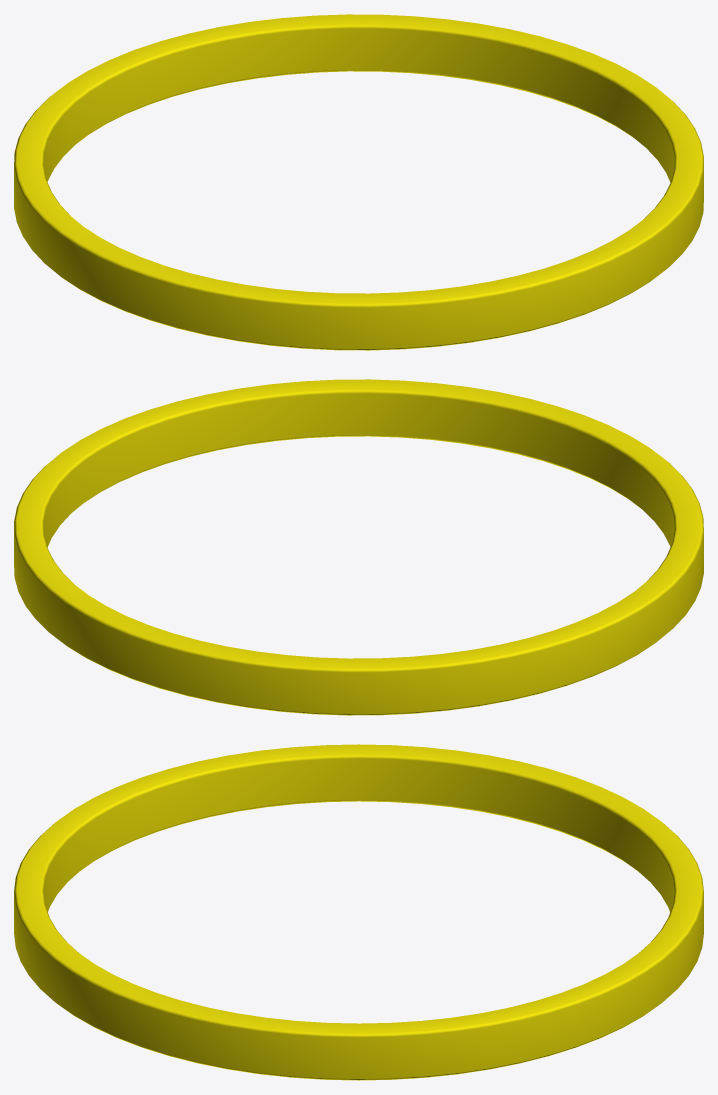
3 renders of one model, top to bottom at view 1: azimuth 30°, elevation 25°; view 2: azimuth 150°, elevation 25°; view 3: azimuth 270°, elevation 25°, orthographic.
Visible parts, largest first — view 1: seal_body; view 2: seal_body; view 3: seal_body.
Part boxes in pixels (x1,y1,x2,y2): seal_body: (14, 14, 703, 350); seal_body: (14, 379, 703, 715); seal_body: (14, 744, 703, 1080).
Bounding box in the file's own units: 0.093 × 0.007 × 0.093.
